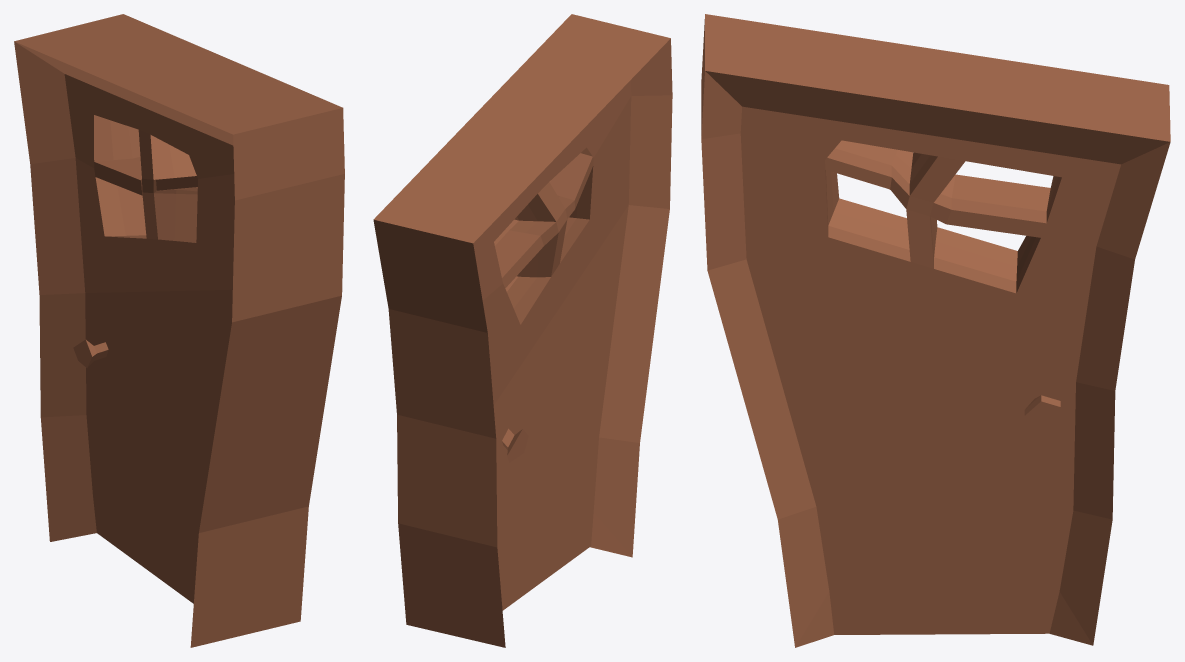
The model's file is door.glb.
3 views of the same model, side by side, from view 1: azimuth 30°, elevation 25°; view 2: azimuth 150°, elevation 25°; view 3: azimuth 270°, elevation 25° (orthographic). The views are drawn at different scales.
Parts seen in each view (by area): view 1: door; view 2: door; view 3: door.
Boxes of the visible parts, box(x1,y1,x2,y2) form: door: box(14, 14, 344, 647); door: box(373, 14, 672, 647); door: box(701, 14, 1170, 647).
Size of the model in its own units: 1 by 4.75 by 3.5.
1 material, 1 textured.
